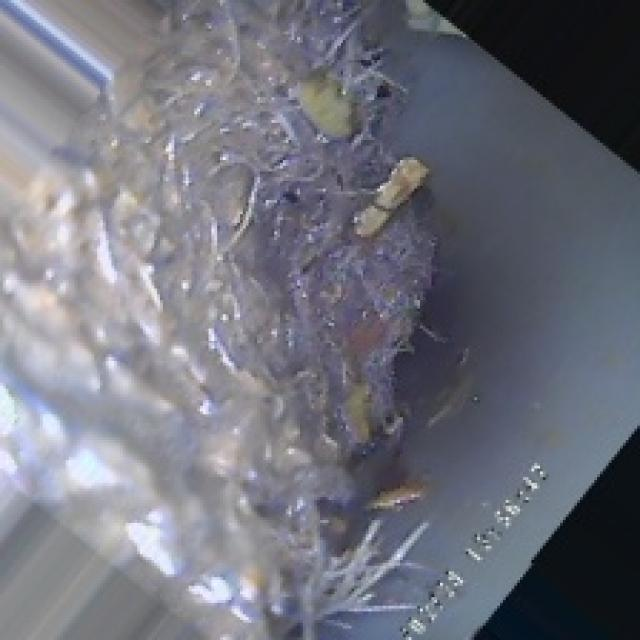sluge accumulation: (43, 6, 426, 580)
